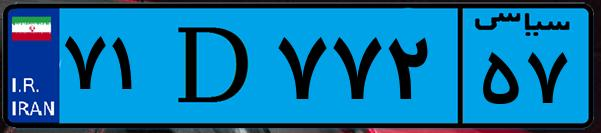1: (110, 28, 158, 98)
2: (385, 28, 445, 110)
5: (475, 38, 525, 113)
7: (270, 28, 330, 110), (330, 28, 385, 110), (57, 26, 110, 100), (525, 38, 570, 115)
D: (158, 12, 270, 120)
